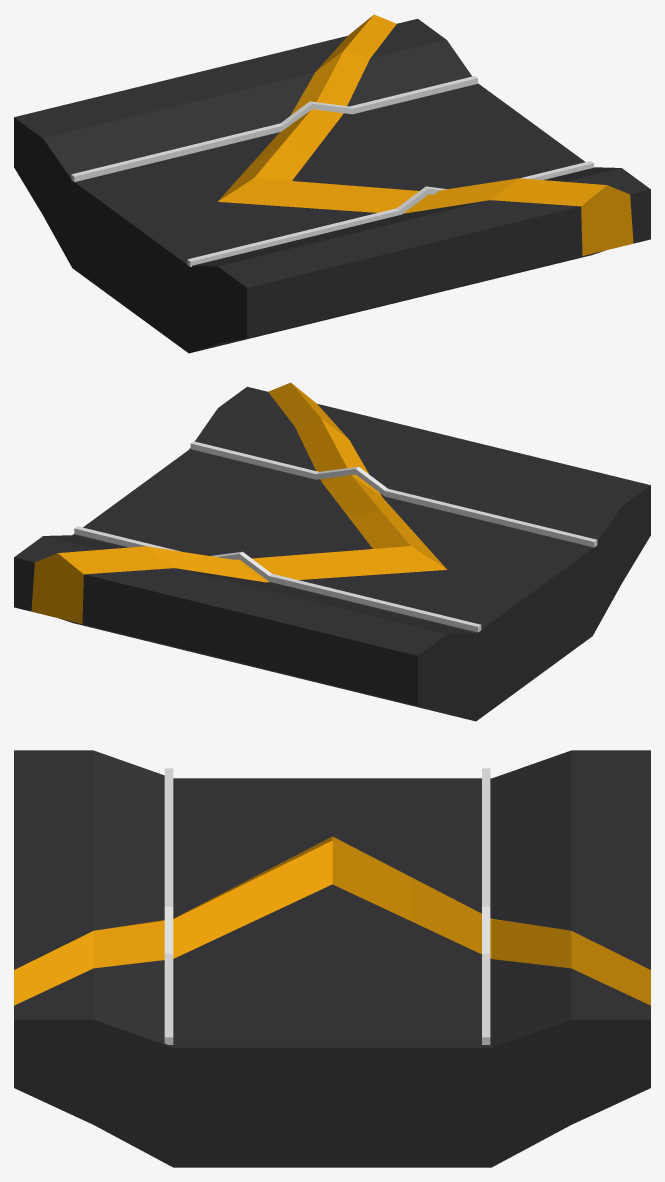
File: conveyor1.fbx
The picture shows the model from 3 angles, top to bottom: view 1: azimuth 30°, elevation 25°; view 2: azimuth 150°, elevation 25°; view 3: azimuth 270°, elevation 25°; orthographic projection. The views are drawn at different scales.
Parts seen in each view (by area): view 1: Cube, Cube.001; view 2: Cube, Cube.001; view 3: Cube, Cube.001.
Boxes of the visible parts, box(x1,y1,x2,y2) form: Cube: box(14, 14, 650, 353); Cube.001: box(71, 76, 593, 266); Cube: box(14, 382, 650, 721); Cube.001: box(74, 441, 597, 632); Cube: box(14, 750, 650, 1167); Cube.001: box(164, 768, 490, 1044).
Size of the model in its own units: 201 by 58.29 by 200.
